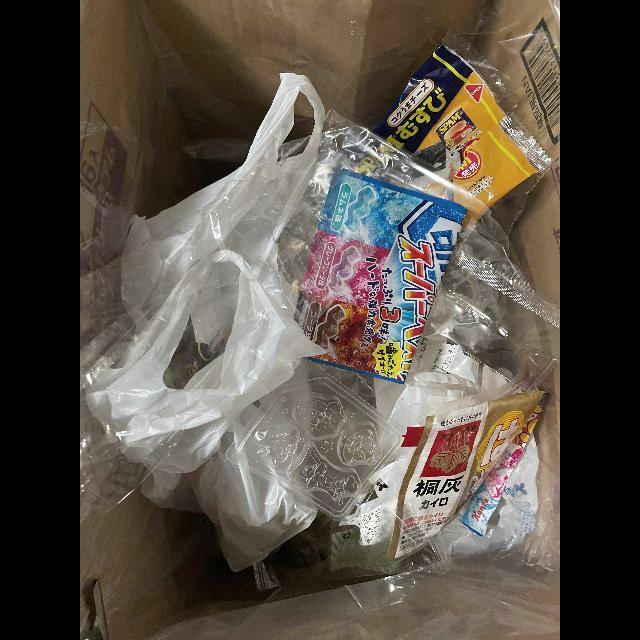food_wrapper: (294, 169, 467, 385), (372, 29, 553, 208), (394, 392, 546, 559)
plastic_bag: (86, 250, 326, 574), (120, 73, 325, 326)
